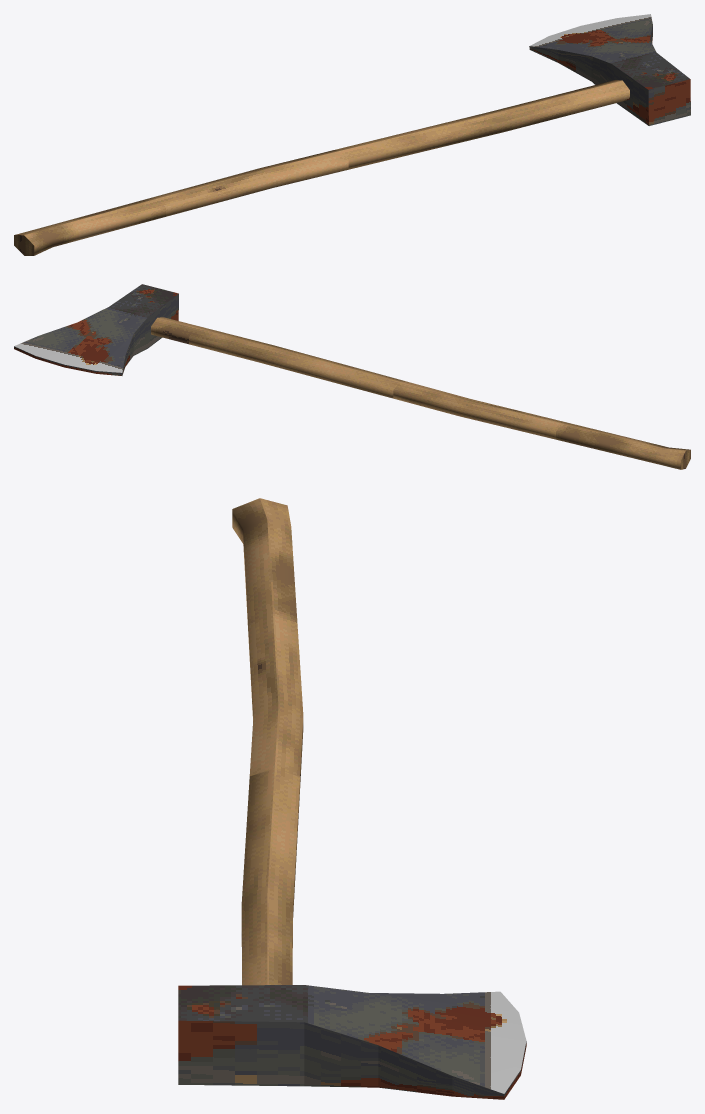
The model's file is axe.glb.
3 renders of one model, top to bottom at view 1: azimuth 30°, elevation 25°; view 2: azimuth 150°, elevation 25°; view 3: azimuth 270°, elevation 25°, orthographic. The views are drawn at different scales.
Visible parts, largest first — view 1: axe; view 2: axe; view 3: axe.
Boxes of the visible parts, x1,y1,x2,y2 form: axe: (14,14,690,255); axe: (14,284,690,469); axe: (178,498,526,1099).
Size of the model in its own units: 0.7644 by 0.0386 by 0.188.
Materials: 1 (1 with a texture image).
